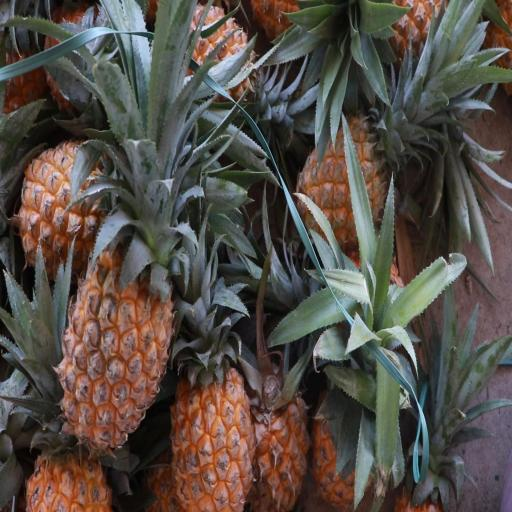Pineapple - v8 v1: (50, 220, 172, 462), (16, 126, 156, 286), (294, 106, 394, 260), (169, 357, 258, 512), (24, 366, 113, 512), (255, 361, 313, 512)
